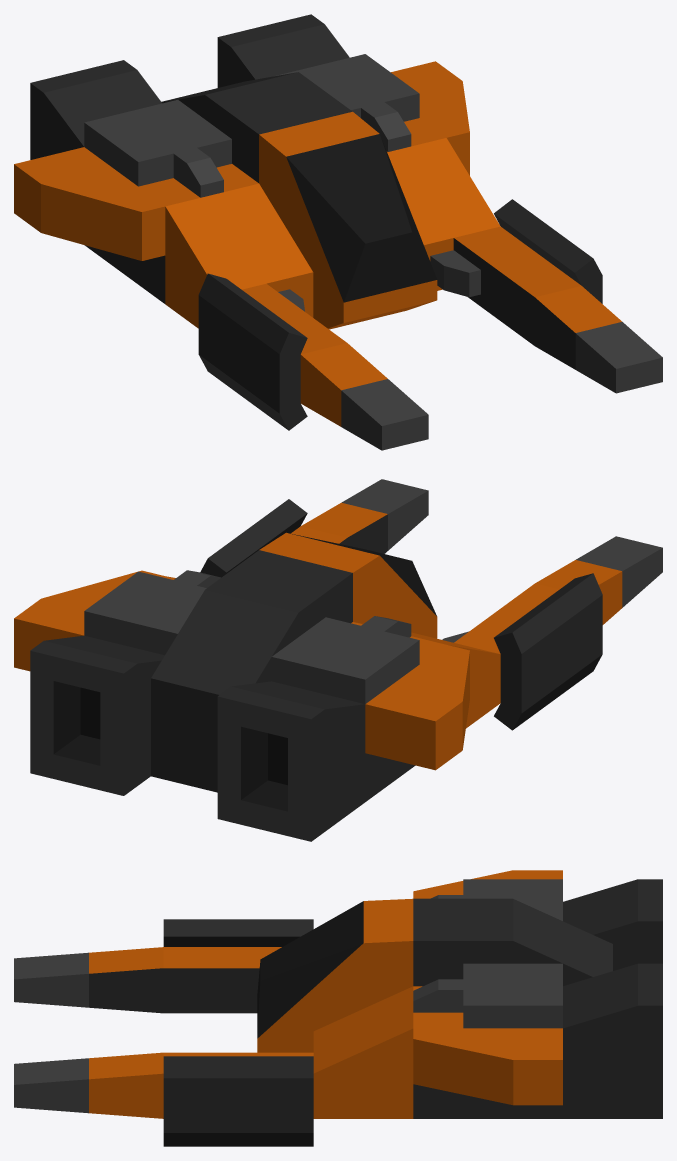
File: blackout.dae
The picture shows the model from 3 angles, top to bottom: view 1: azimuth 30°, elevation 25°; view 2: azimuth 150°, elevation 25°; view 3: azimuth 270°, elevation 25°; orthographic projection. The views are drawn at different scales.
Visible parts, largest first — view 1: craft_miner; view 2: craft_miner; view 3: craft_miner.
Part boxes in pixels (box(x1,y1,x2,y2)): craft_miner: box(14, 14, 662, 450); craft_miner: box(14, 479, 662, 841); craft_miner: box(14, 870, 662, 1146).
Bounding box in the file's own units: 1.8 × 0.7 × 2.6.
